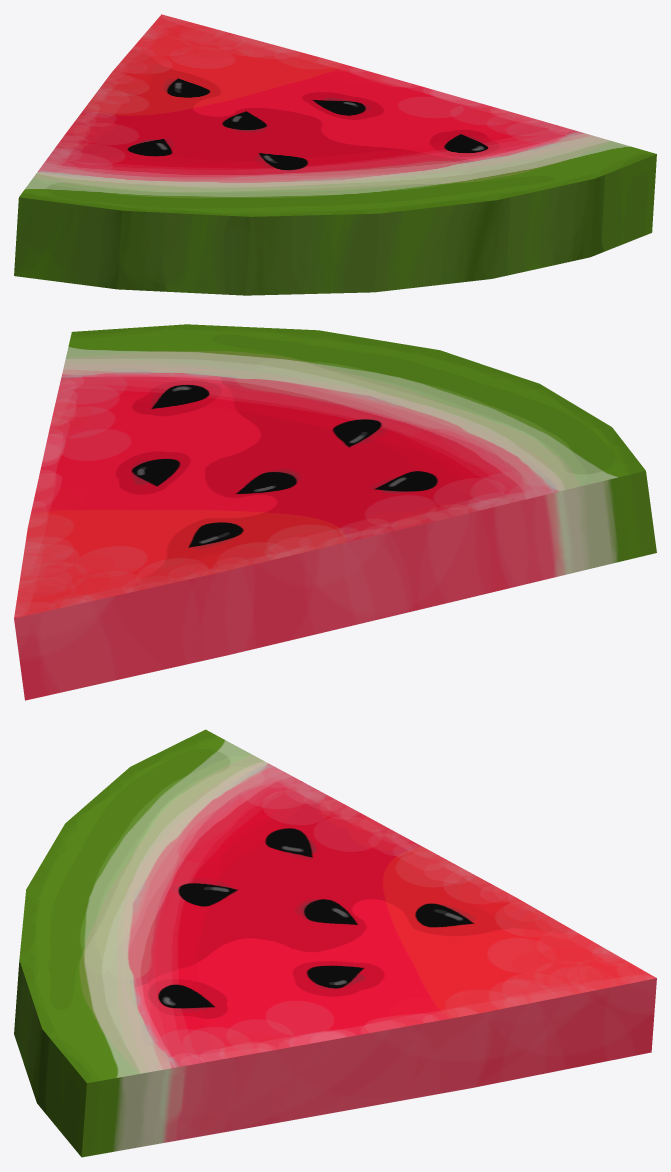
The model's file is Fruit_WatermelonSlice.fbx.
3 renders of one model, top to bottom at view 1: azimuth 30°, elevation 25°; view 2: azimuth 150°, elevation 25°; view 3: azimuth 270°, elevation 25°, orthographic. The views are drawn at different scales.
Parts seen in each view (by area): view 1: Watermelon_Slice2; view 2: Watermelon_Slice2; view 3: Watermelon_Slice2.
Boxes of the visible parts, left/top/right/bottom form: Watermelon_Slice2: left=14, top=14, right=656, bottom=295; Watermelon_Slice2: left=14, top=324, right=656, bottom=700; Watermelon_Slice2: left=14, top=729, right=656, bottom=1157.
Size of the model in its own units: 4.03 by 0.9071 by 3.66.
Materials: 1 (1 with a texture image).
